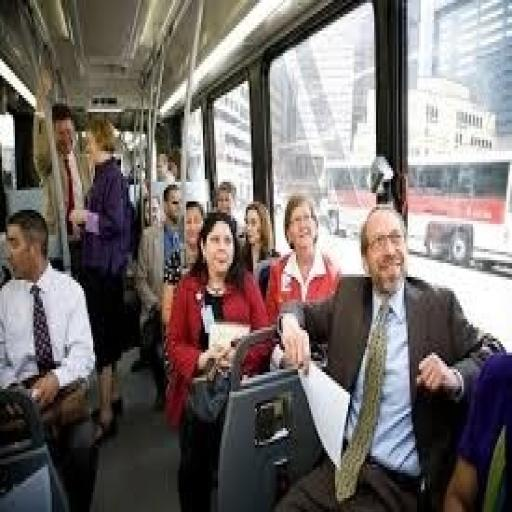sitting: (2, 98, 506, 506), (270, 202, 505, 510)
